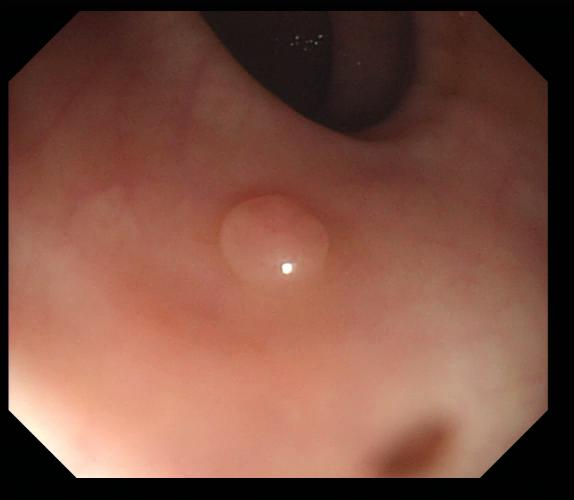polyp: (219, 191, 334, 288)
